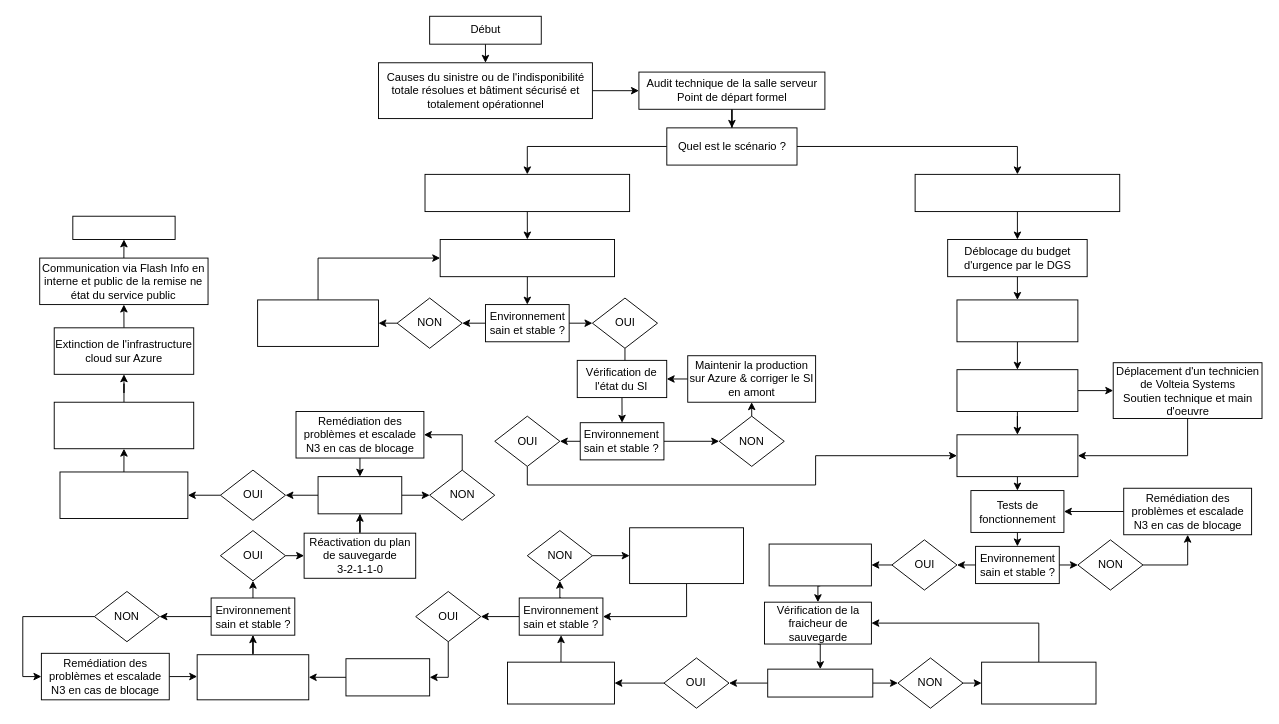
This 1279x724 diagram has some shape labels left out. The centre of each missing label's shape, as x and y in pixels:
Communication via Flash Info en interne de la remise en état du SI: pixel 123 425
Contact des commerciaux pour passage de devis: pixel 1017 320
Contrôle de la salle serveur (Electricité, climatisation, sortie WAN OK): pixel 527 258
Données à jour ?: pixel 820 682
Démarrage de la prod on-premise dans un ordre précis: pixel 560 682
Environnement fonctionnel et stable ?: pixel 359 495
Escalade N3 pour un audit de sauvegarde: pixel 1038 682
Fin: pixel 123 227
Installation du matériel et réinjection des configurations: pixel 1017 455
Livraison, pose et câblage dans la nouvelle baie: pixel 1017 390
Maintenir la production sur Azure & corriger le site en amont: pixel 318 322
Maintenir la production sur Azure & corriger les erreurs d'infrastructure: pixel 686 555
Reconfiguration réseau et WIFI: pixel 387 677
Restauration de la donnée depuis Wasabi et Azure: pixel 819 564
SCENARIO A : Indisponibilité matérielle: pixel 527 192
SCENARIO B : Destruction matérielle: pixel 1017 192
Signature de l'acte de clôture de crise par le DGS: pixel 123 494
Tests d'intégration et de fonctionnement de l'app métier: pixel 252 677
